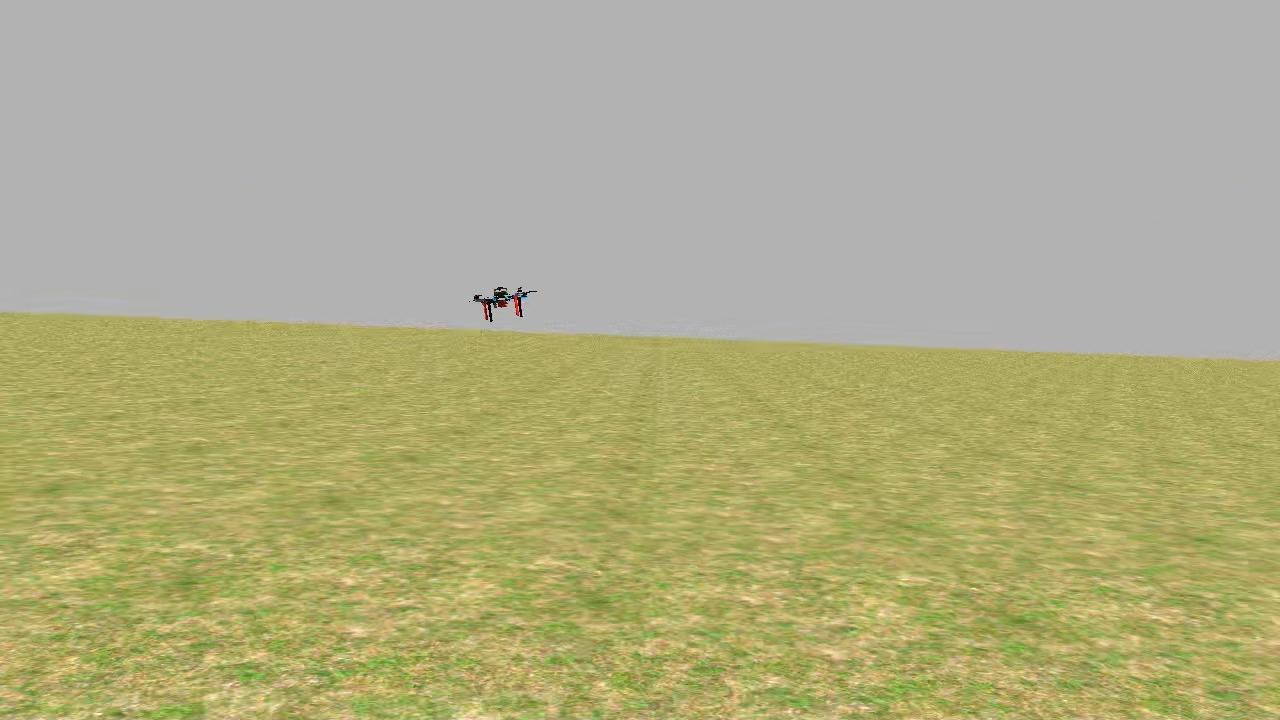UAV: (466, 280, 535, 332)
